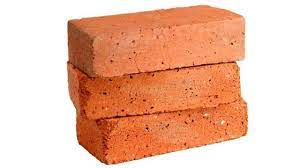brick: (66, 4, 251, 79), (72, 97, 256, 165), (63, 60, 248, 120)
